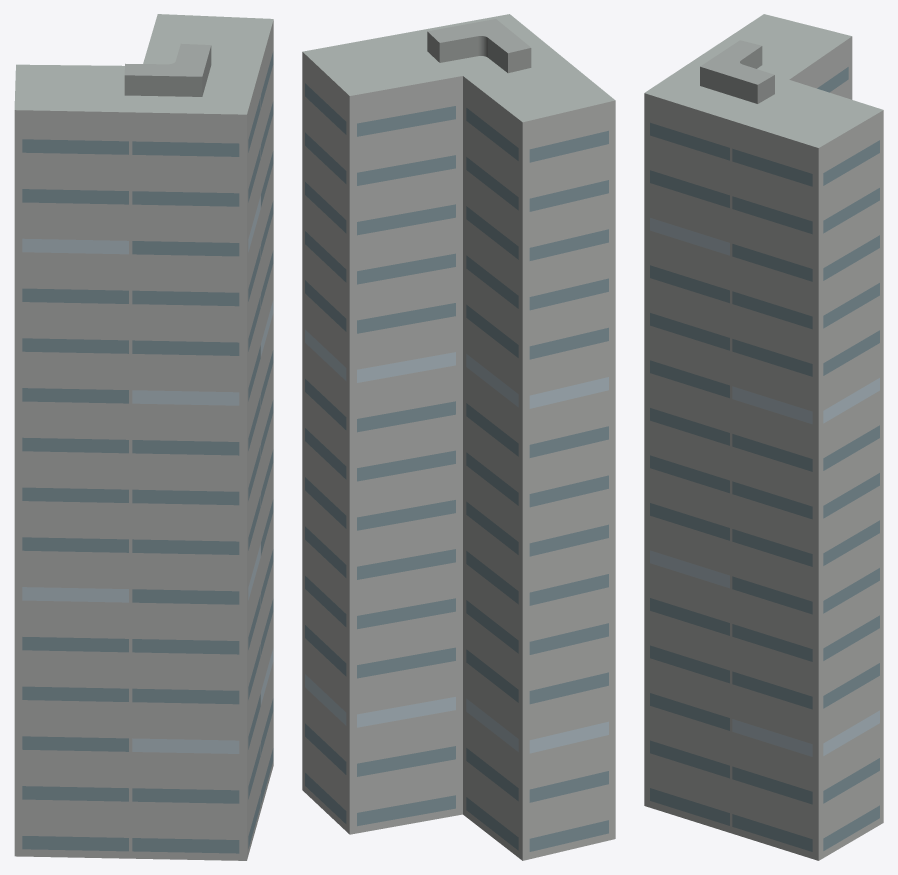
File: fallback-jamsil-ricenz-225.glb
3 renders of one model, left to right at view 1: azimuth 30°, elevation 25°; view 2: azimuth 150°, elevation 25°; view 3: azimuth 270°, elevation 25°, orthographic. The views are drawn at different scales.
Parts seen in each view (by area): view 1: fallback-jamsil-ricenz-225; view 2: fallback-jamsil-ricenz-225; view 3: fallback-jamsil-ricenz-225.
Boxes of the visible parts, x1,y1,x2,y2 form: fallback-jamsil-ricenz-225: (14, 14, 273, 860); fallback-jamsil-ricenz-225: (302, 14, 615, 860); fallback-jamsil-ricenz-225: (644, 14, 883, 860).
Bounding box in the file's own units: 35.76 × 91 × 26.99.
